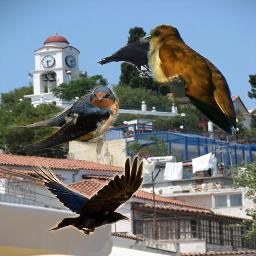Crow: (31, 155, 146, 235), (97, 28, 166, 78)
Cuckoo: (140, 24, 236, 138)
Swallow: (2, 85, 119, 150)
